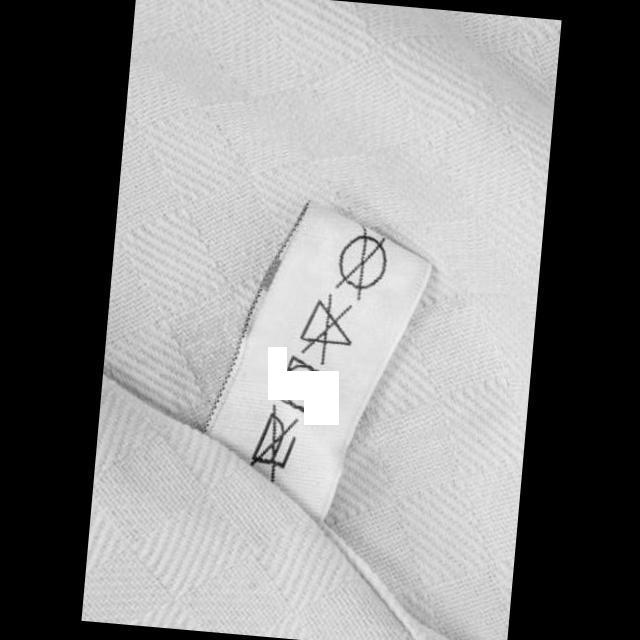DN_bleach: (287, 286, 363, 371)
DN_dry_clean: (324, 218, 396, 306)
DN_iron: (241, 400, 303, 483)
